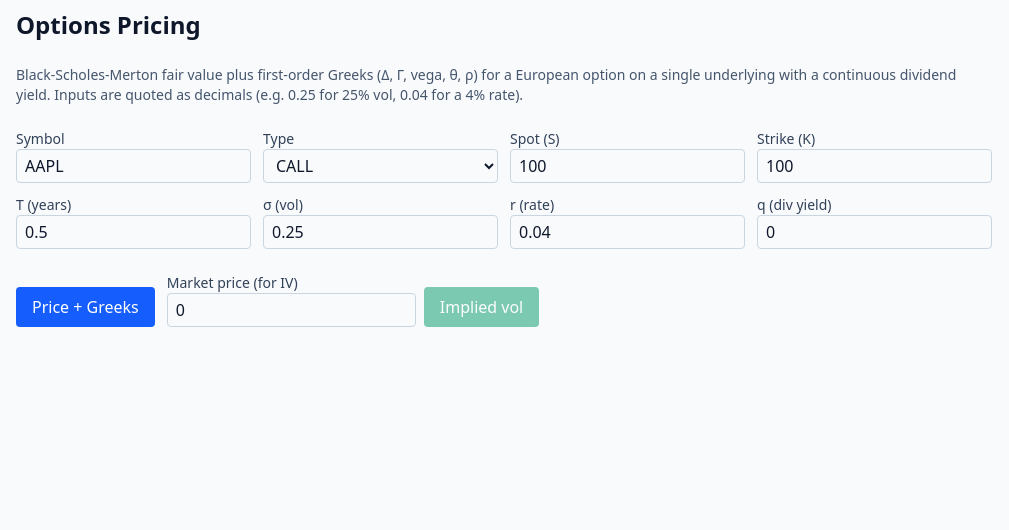
Test: Options page › requests a price and renders Greeks
This screenshot has width=1009, height=530.
Click the button with test id "opt-price-btn" at coordinates (85, 307), box [16,287,155,327]
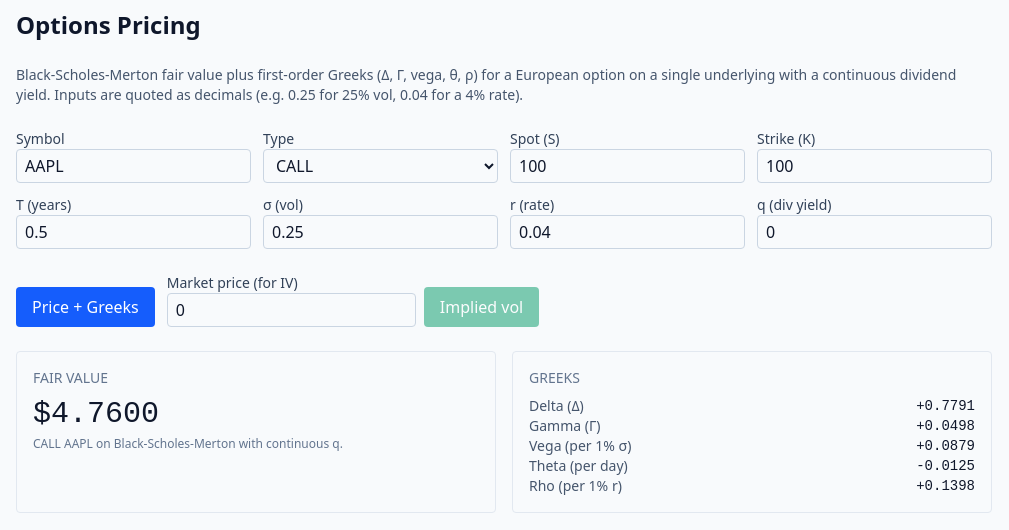
Expected: the text with test id "opt-price" reads "$4.7600", [33,397,159,431]
Expected: the cell with test id "opt-delta" reads "+0.7791", [916,398,975,414]
Expected: the cell with test id "opt-gamma" reads "+0.0498", [916,418,975,434]
